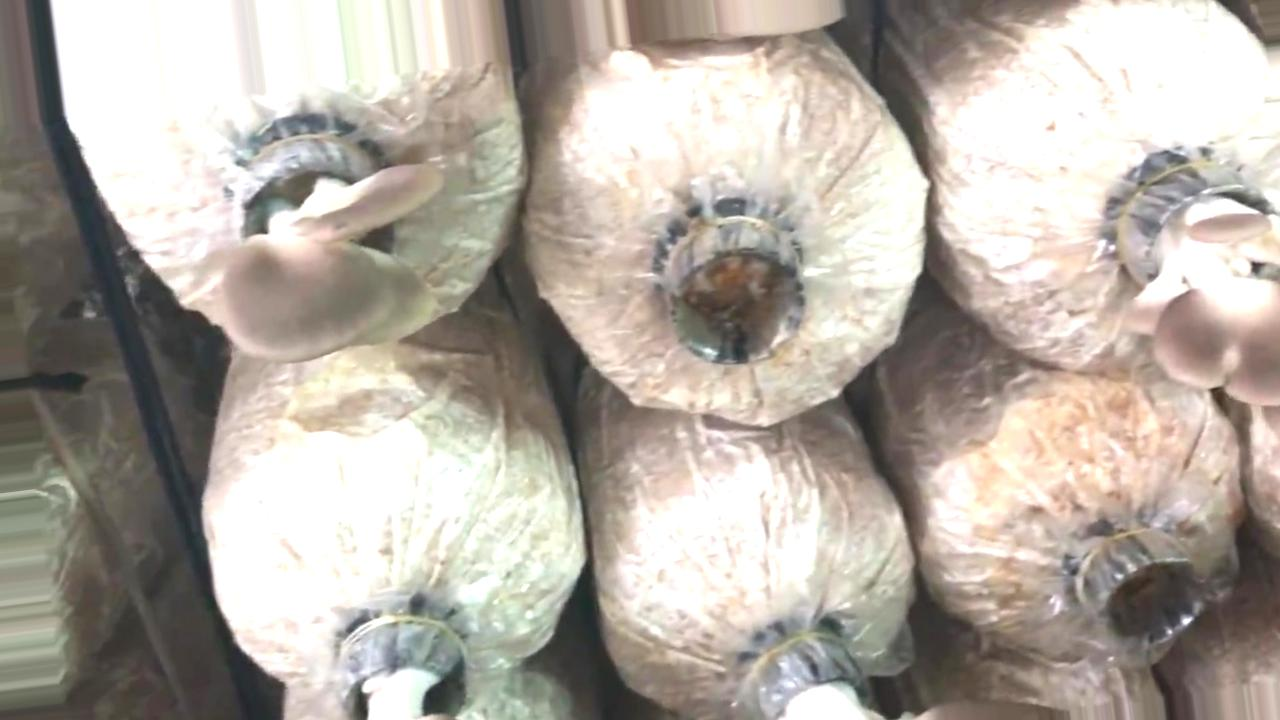nam: (217, 138, 452, 367), (1136, 166, 1280, 407)
